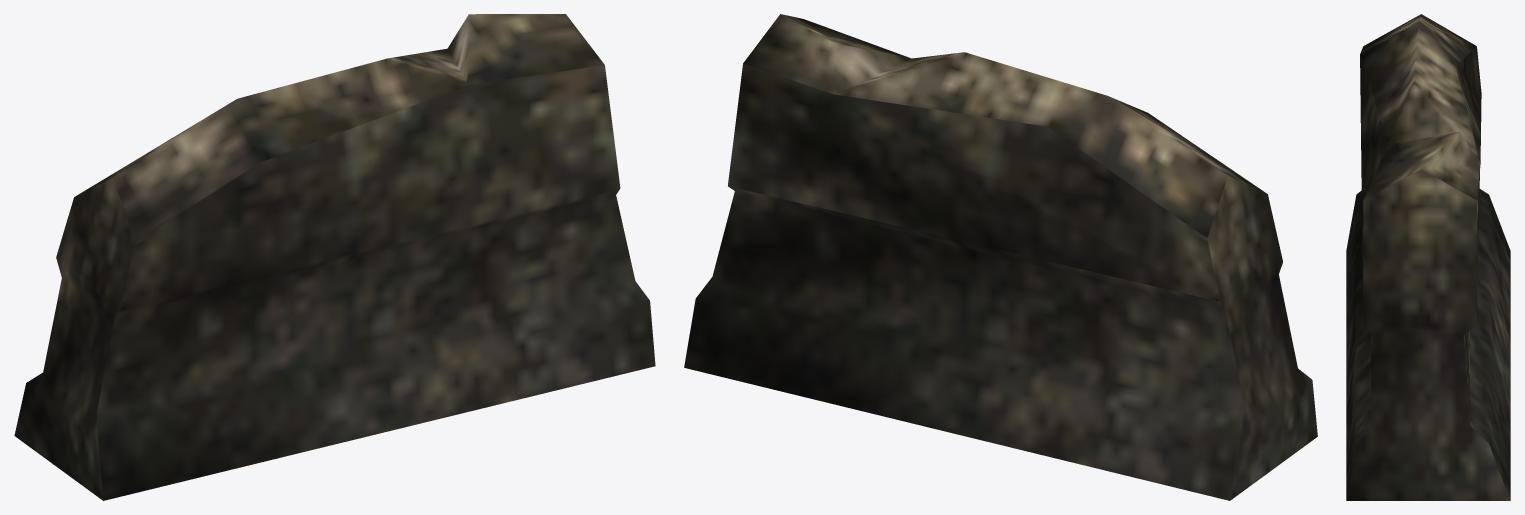
File: b_general_obj_17_01.glb
3 views of the same model, side by side, from view 1: azimuth 30°, elevation 25°; view 2: azimuth 150°, elevation 25°; view 3: azimuth 270°, elevation 25° (orthographic). The views are drawn at different scales.
Parts seen in each view (by area): view 1: Object01; view 2: Object01; view 3: Object01.
Part boxes in pixels (box(x1,y1,x2,y2)): Object01: box(14, 14, 655, 500); Object01: box(684, 14, 1317, 500); Object01: box(1346, 14, 1510, 500).
Size of the model in its own units: 1.86 by 1.09 by 0.5184.
Materials: 1 (1 with a texture image).
